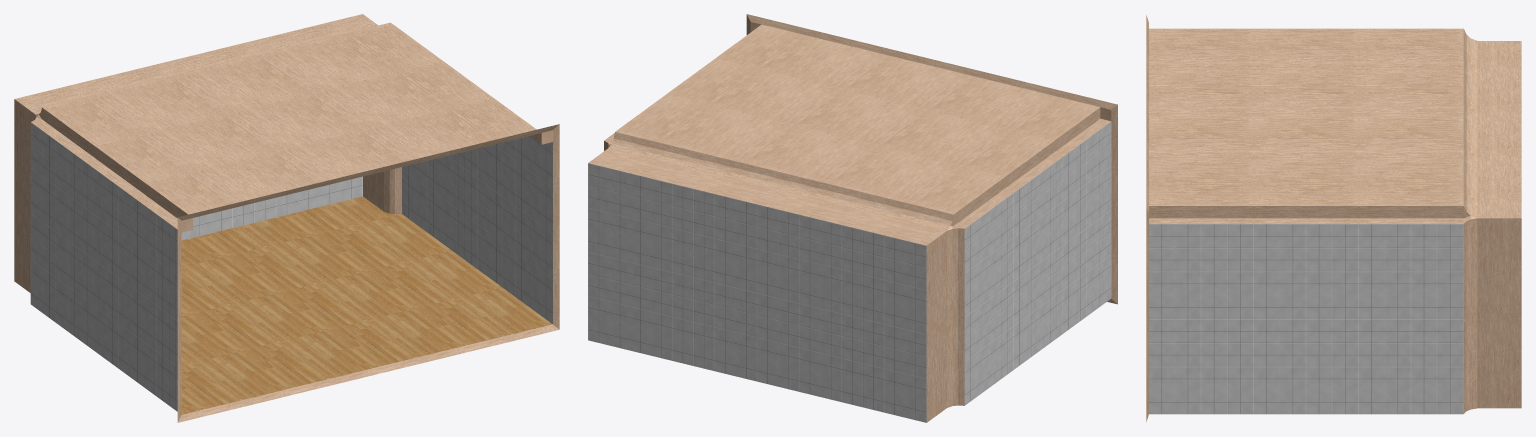
File: bathroom_1.FBX
3 renders of one model, left to right at view 1: azimuth 30°, elevation 25°; view 2: azimuth 150°, elevation 25°; view 3: azimuth 270°, elevation 25°, orthographic. The views are drawn at different scales.
Parts seen in each view (by area): view 1: Plane001; view 2: Plane001; view 3: Plane001.
Part boxes in pixels (left/top/right/bottom): Plane001: left=14, top=14, right=559, bottom=422; Plane001: left=588, top=14, right=1117, bottom=422; Plane001: left=1146, top=15, right=1521, bottom=421.
Size of the model in its own units: 439 by 226 by 358.
